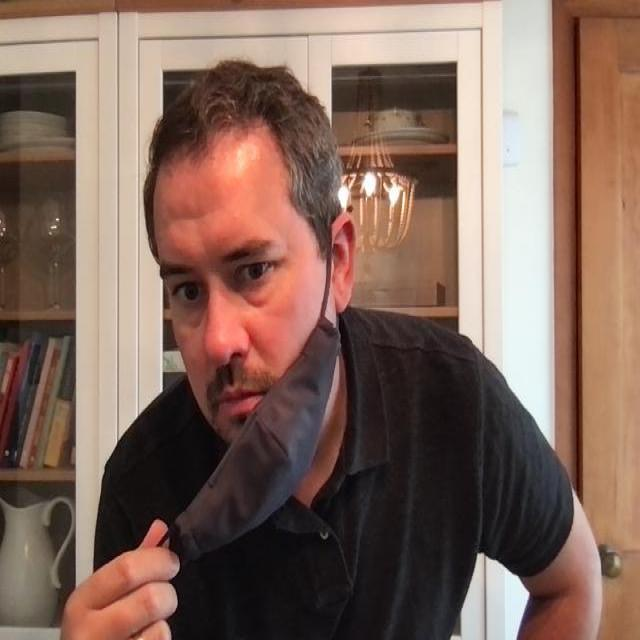face: (142, 61, 345, 487)
